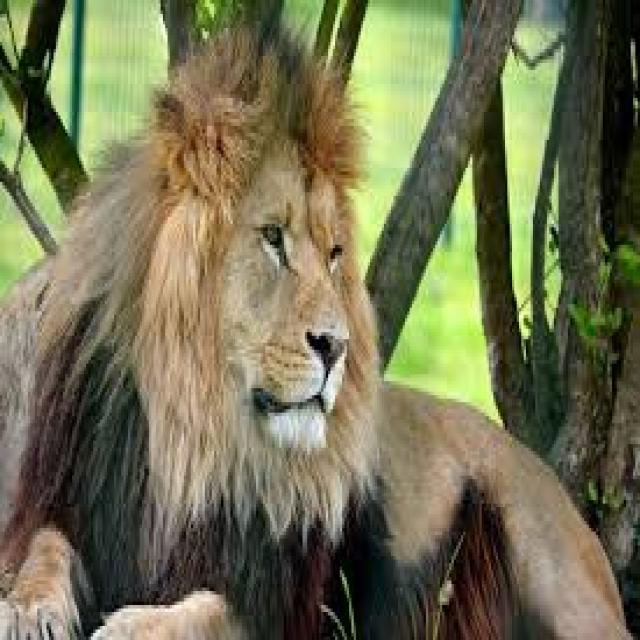Lion: (1, 17, 633, 637)
